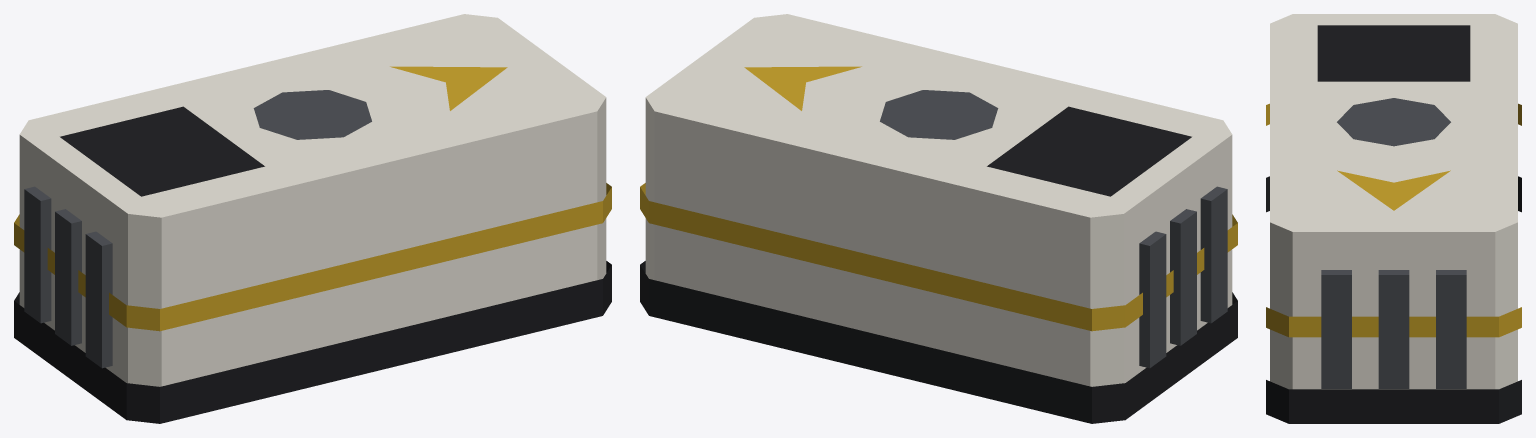
File: radio_module.glb
3 views of the same model, side by side, from view 1: azimuth 30°, elevation 25°; view 2: azimuth 150°, elevation 25°; view 3: azimuth 270°, elevation 25° (orthographic). The views are drawn at different scales.
Parts seen in each view (by area): view 1: radio_module; view 2: radio_module; view 3: radio_module.
Part boxes in pixels (x1,y1,x2,y2): radio_module: [14, 14, 611, 423]; radio_module: [640, 14, 1237, 423]; radio_module: [1266, 14, 1521, 423].
Size of what is drawn, in the model's own units: 0.282 by 0.1105 by 0.134.
